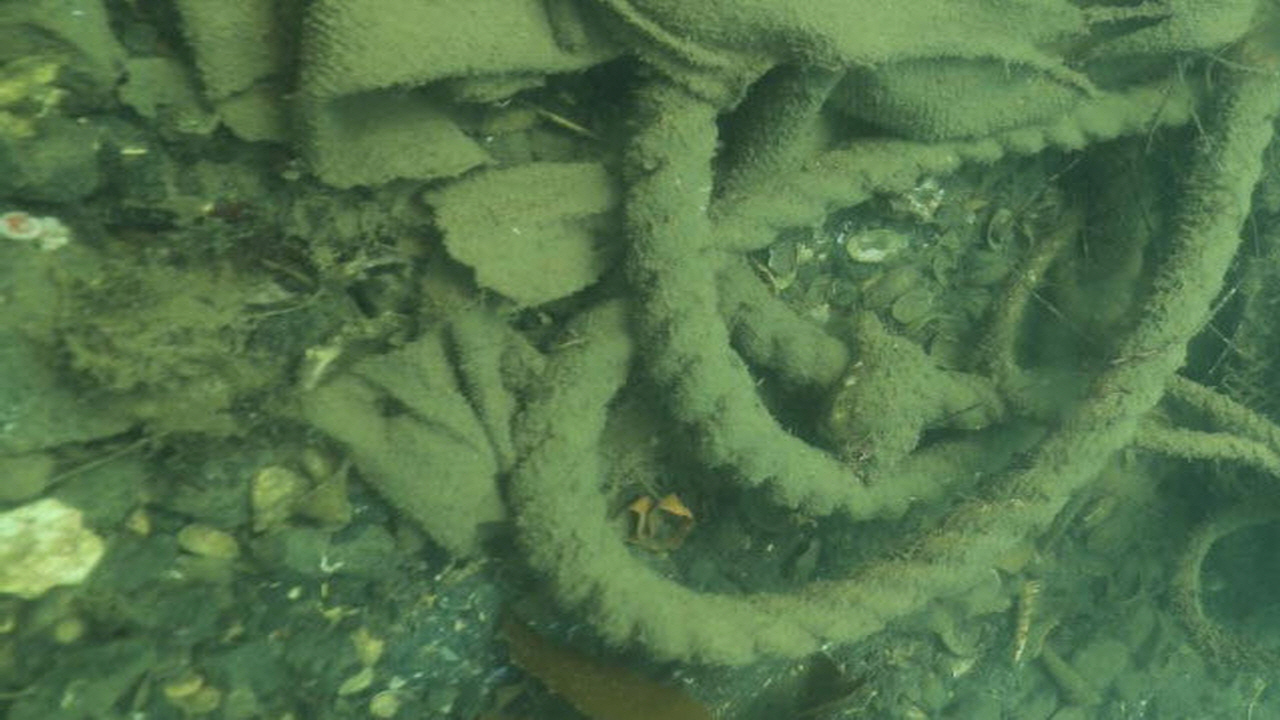bundle of ropes: (511, 61, 1280, 668)
